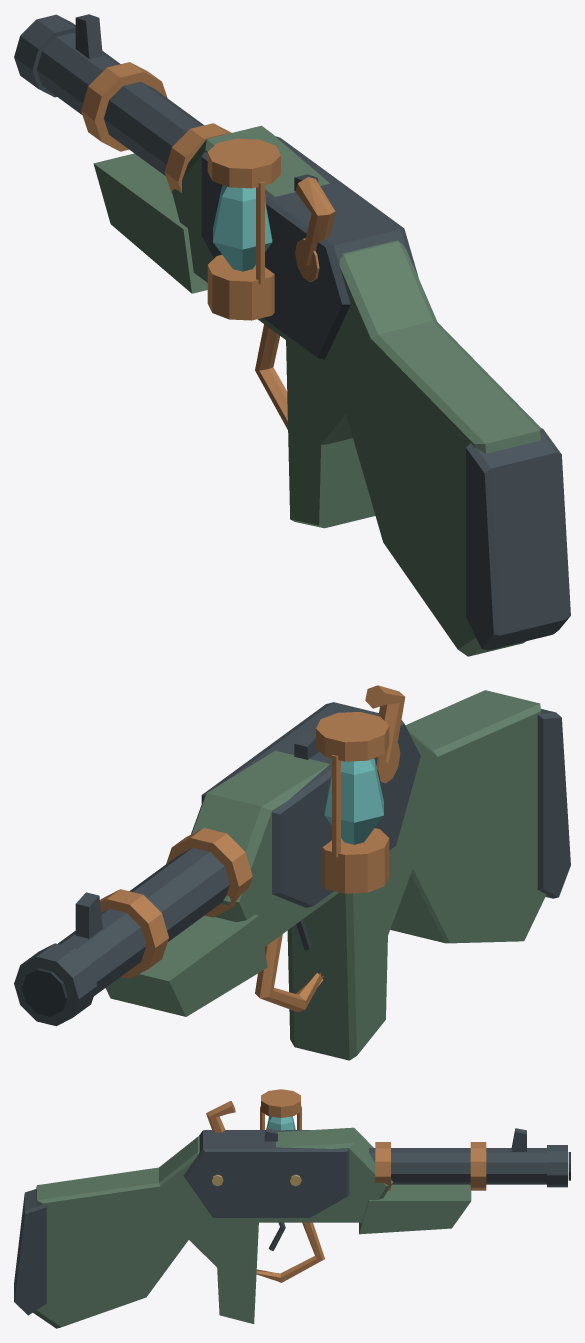
File: AEW_Longgun_AlchemistCarbine.fbx
The picture shows the model from 3 angles, top to bottom: view 1: azimuth 30°, elevation 25°; view 2: azimuth 150°, elevation 25°; view 3: azimuth 270°, elevation 25°; orthographic projection. The views are drawn at different scales.
Visible parts, largest first — view 1: AEW_Longgun_AlchemistCarbine; view 2: AEW_Longgun_AlchemistCarbine; view 3: AEW_Longgun_AlchemistCarbine.
Part boxes in pixels (x1=…): AEW_Longgun_AlchemistCarbine: x1=14, y1=14, x2=570, y2=656; AEW_Longgun_AlchemistCarbine: x1=14, y1=685, x2=570, y2=1060; AEW_Longgun_AlchemistCarbine: x1=14, y1=1089, x2=570, y2=1328.
Bounding box in the file's own units: 0.177 × 0.4759 × 1.14.
